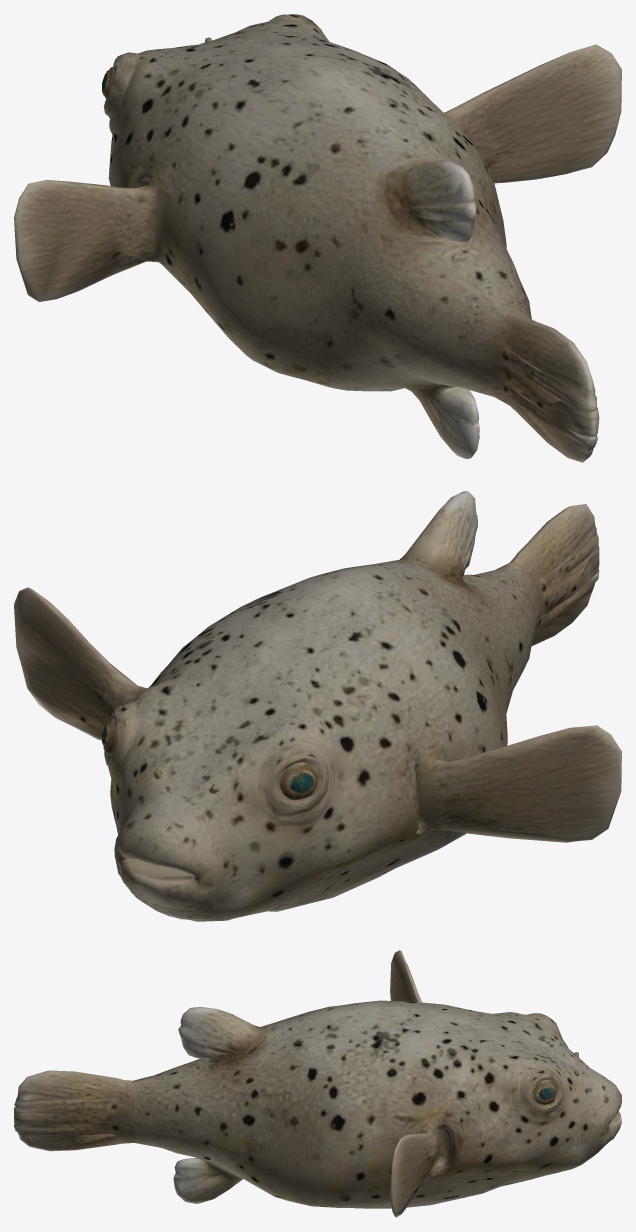
Rendered from kogelvis.glb.
The picture shows the model from 3 angles, top to bottom: view 1: azimuth 30°, elevation 25°; view 2: azimuth 150°, elevation 25°; view 3: azimuth 270°, elevation 25°; orthographic projection. The views are drawn at different scales.
Parts seen in each view (by area): view 1: tripo_node_32c1a83e-8d33-4b57-b084-7adb422e5637; view 2: tripo_node_32c1a83e-8d33-4b57-b084-7adb422e5637; view 3: tripo_node_32c1a83e-8d33-4b57-b084-7adb422e5637.
Part boxes in pixels (left/top/right/bottom): tripo_node_32c1a83e-8d33-4b57-b084-7adb422e5637: left=14, top=14, right=621, bottom=462; tripo_node_32c1a83e-8d33-4b57-b084-7adb422e5637: left=14, top=491, right=621, bottom=921; tripo_node_32c1a83e-8d33-4b57-b084-7adb422e5637: left=14, top=950, right=621, bottom=1217.
Size of the model in its own units: 0.668 by 0.3 by 0.847.
1 material, 1 textured.
